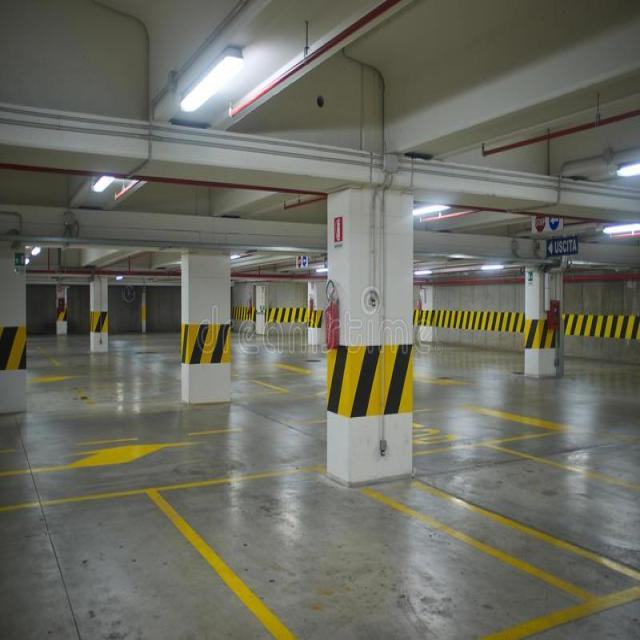fire_extinguisher: (322, 276, 342, 351)
